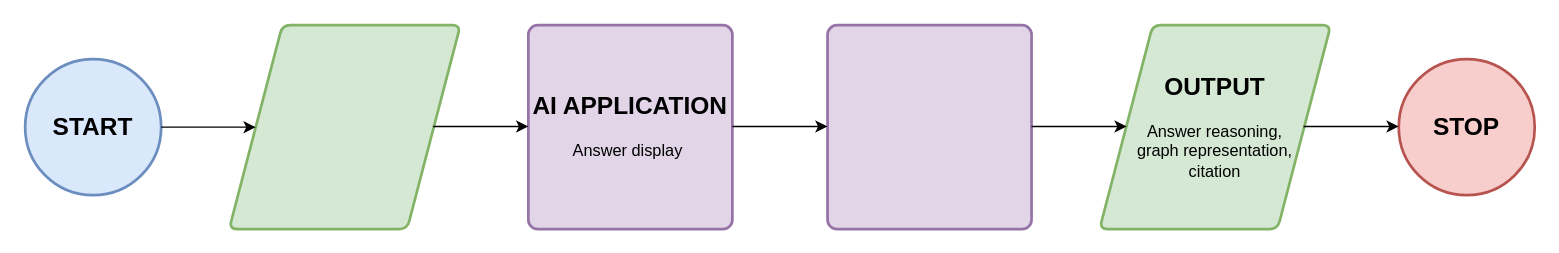
Image size: 1559x253. Some labels were removed from this diagram. The centre of each missing label's shape, as x and y in pixels:
"AI CAPABILITY Finding evidence,understand data" goes at [929,126].
"INPUT Student,Junior Analyst, ESG Researcher Prompt question" goes at [344,126].
